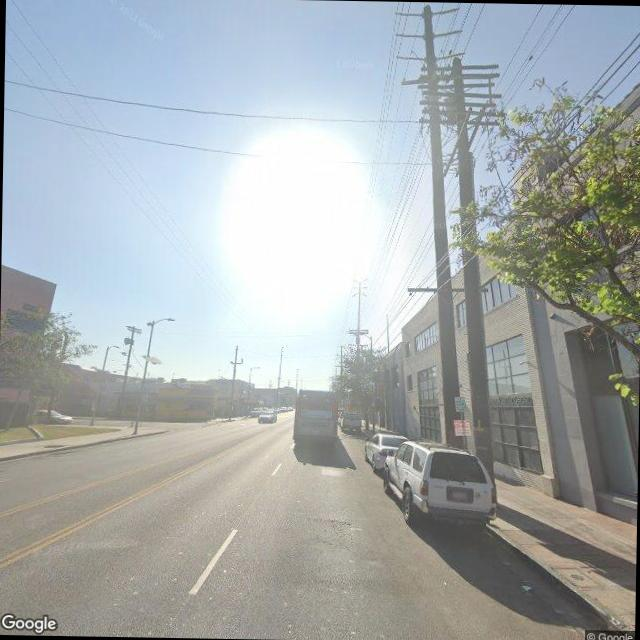crack: (303, 508, 362, 554)
